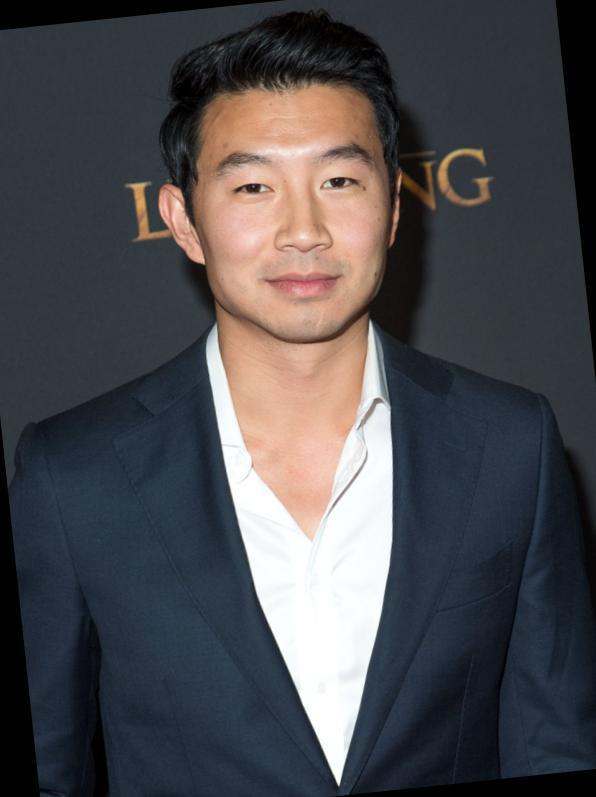Sober: (204, 105, 390, 318)
